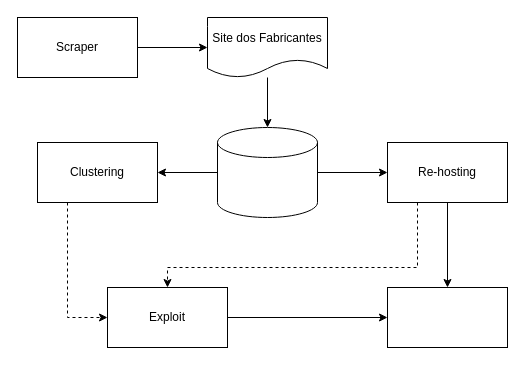
The diagram is 525 pixels wide and 365 high, and some of its shapes have lost their labels. The shapes that lost their labels are listed below. From the top down, each one's centre as x and y in pixels, then its label:
[267,172]: Repositório Local
[447,317]: Testbed emulada
